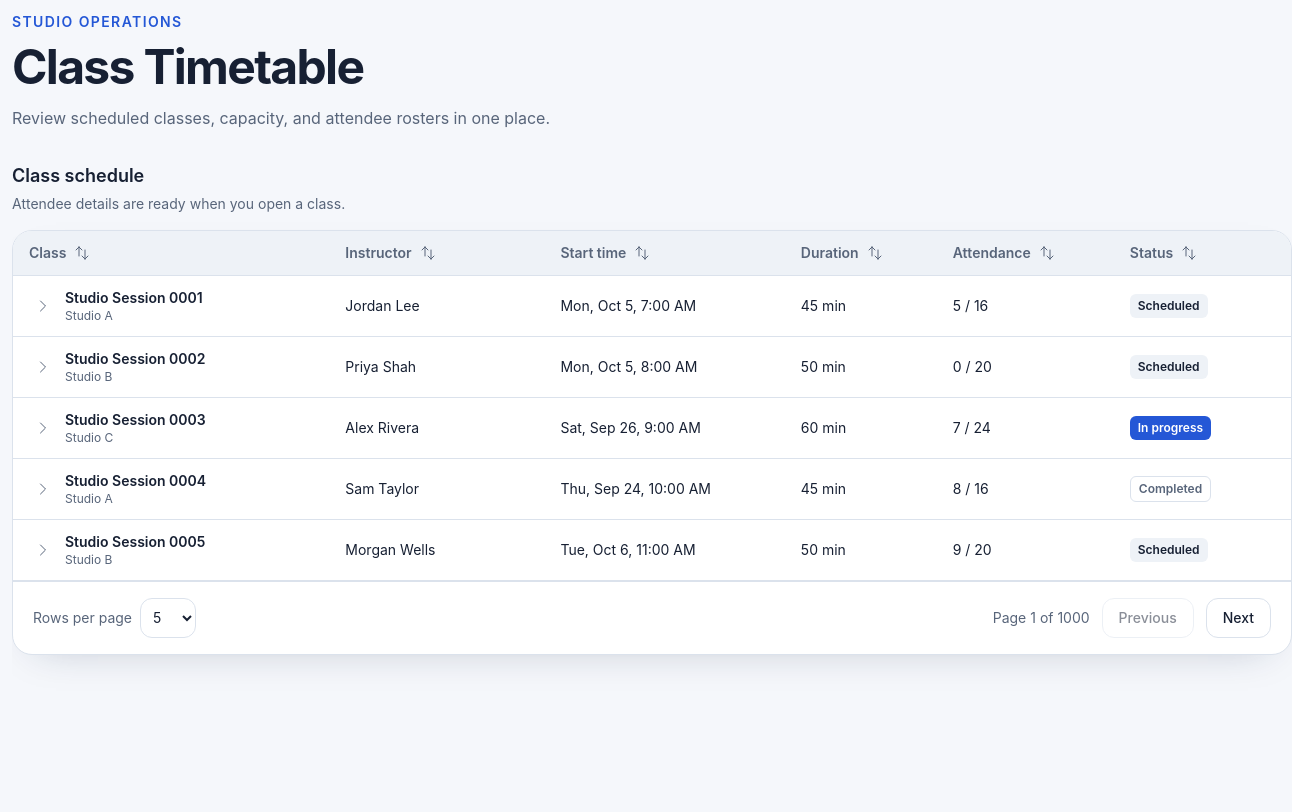
it: class timetable integration › uses a paginated 5,000-row fixture for client sorting checks
This screenshot has width=1292, height=812.
Check: the text "Studio Session 0001" is shown, box [65,289,203,306]
Check: the text "Page 1 of 1000" is shown, box [993,608,1090,628]
Click the button "Class" at (48, 252), box [29,243,313,263]
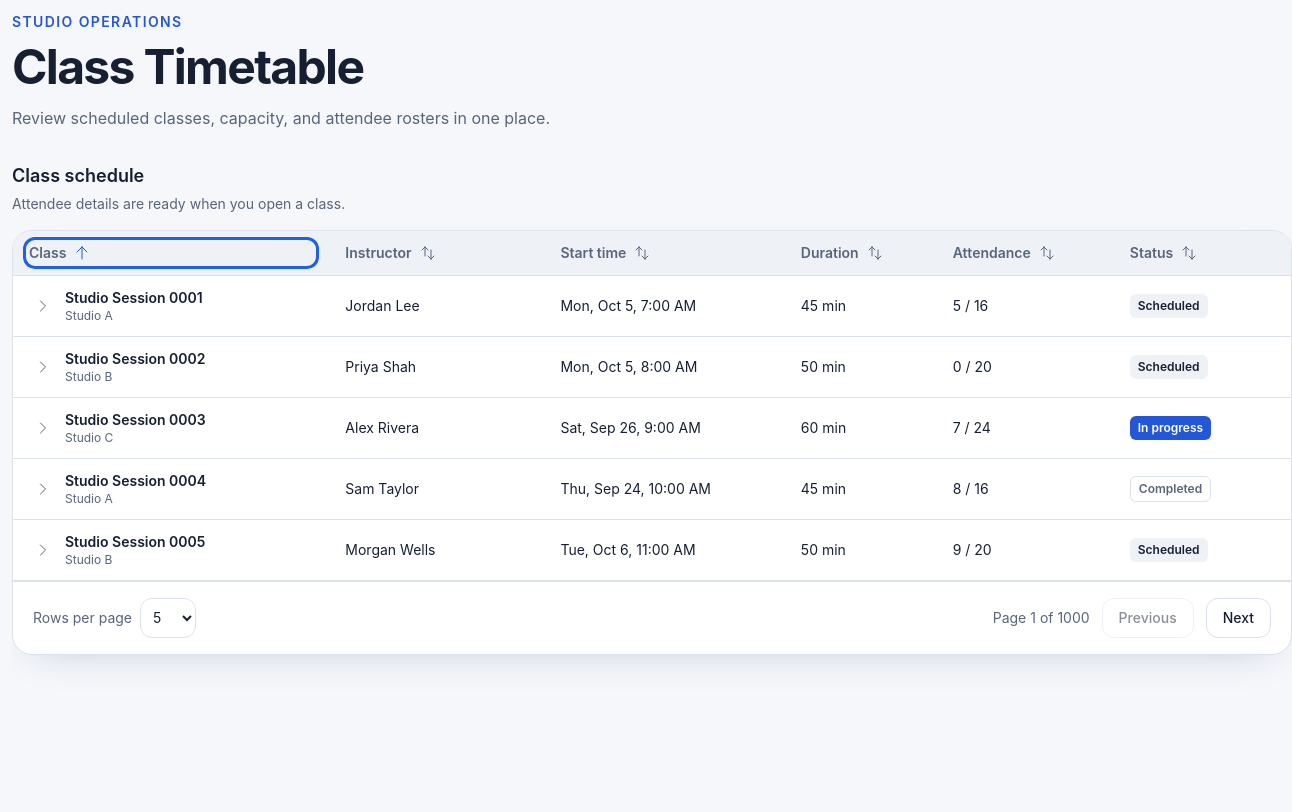
Click the button "Class" at (48, 252), box [29,243,313,263]
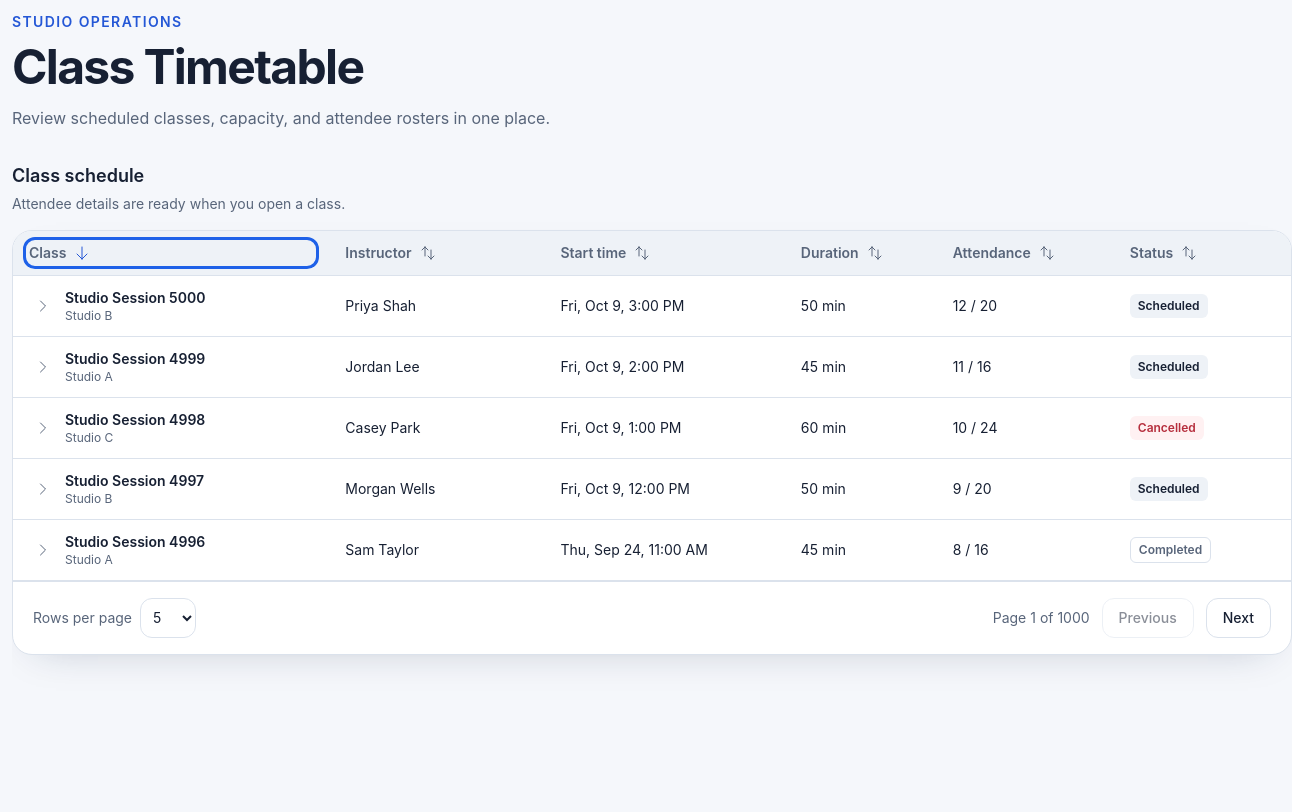
Check: the text "Studio Session 5000" is shown, box [65,289,205,306]
Click the button with aria-label "Next page" at (1238, 618), box [1206,598,1271,638]
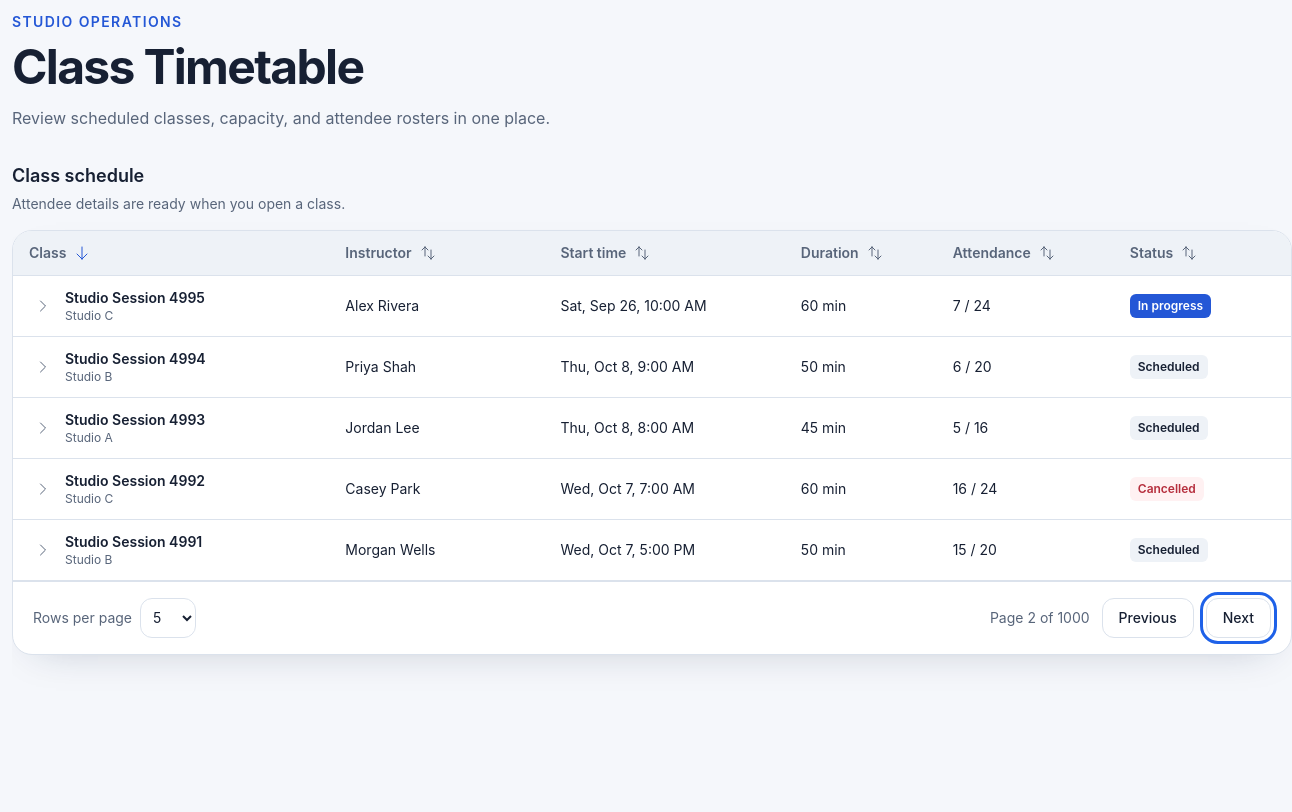
Check: the text "Studio Session 4995" is shown, box [65,289,205,306]
